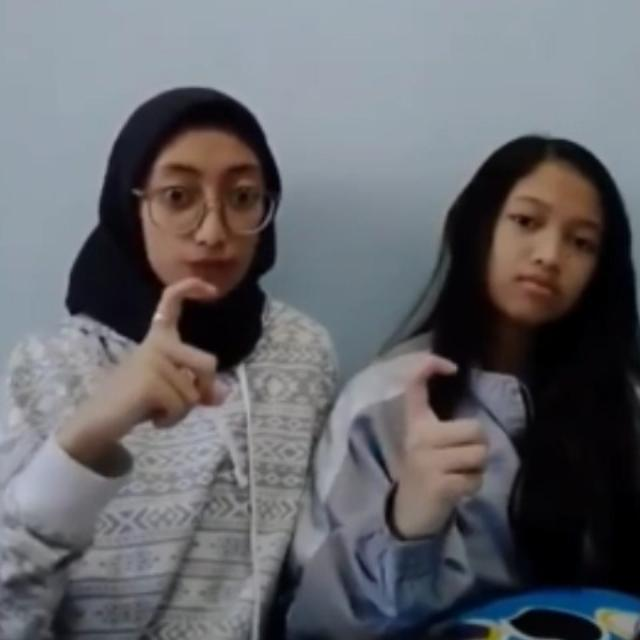X: (107, 278, 235, 452), (381, 347, 494, 531)
